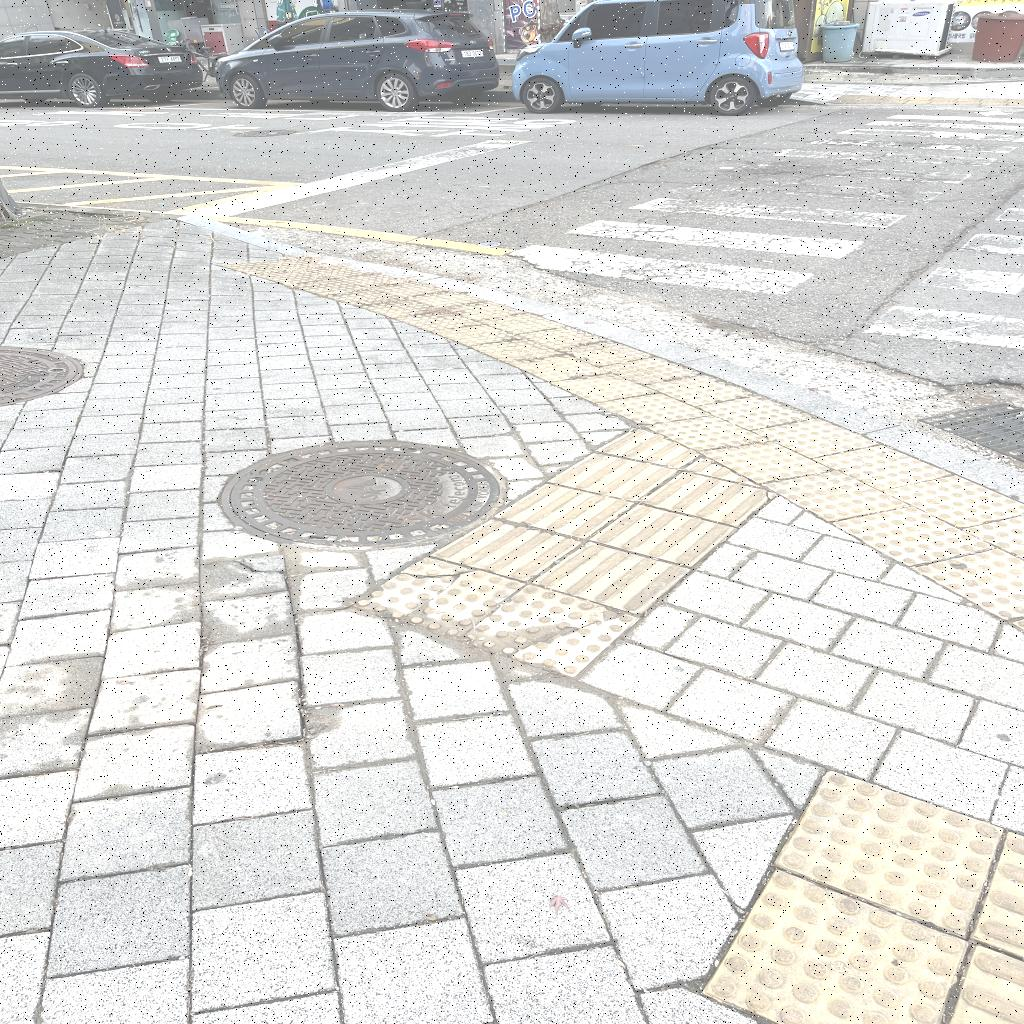Stop block broken: (461, 570, 636, 689), (351, 541, 523, 652)
Stop block normal: (832, 478, 994, 595), (762, 459, 908, 530), (701, 431, 831, 491), (646, 408, 767, 456), (597, 387, 709, 431)
Straight block normal: (535, 532, 688, 624), (432, 507, 581, 590), (590, 496, 734, 574), (494, 474, 632, 547), (549, 446, 676, 508)
